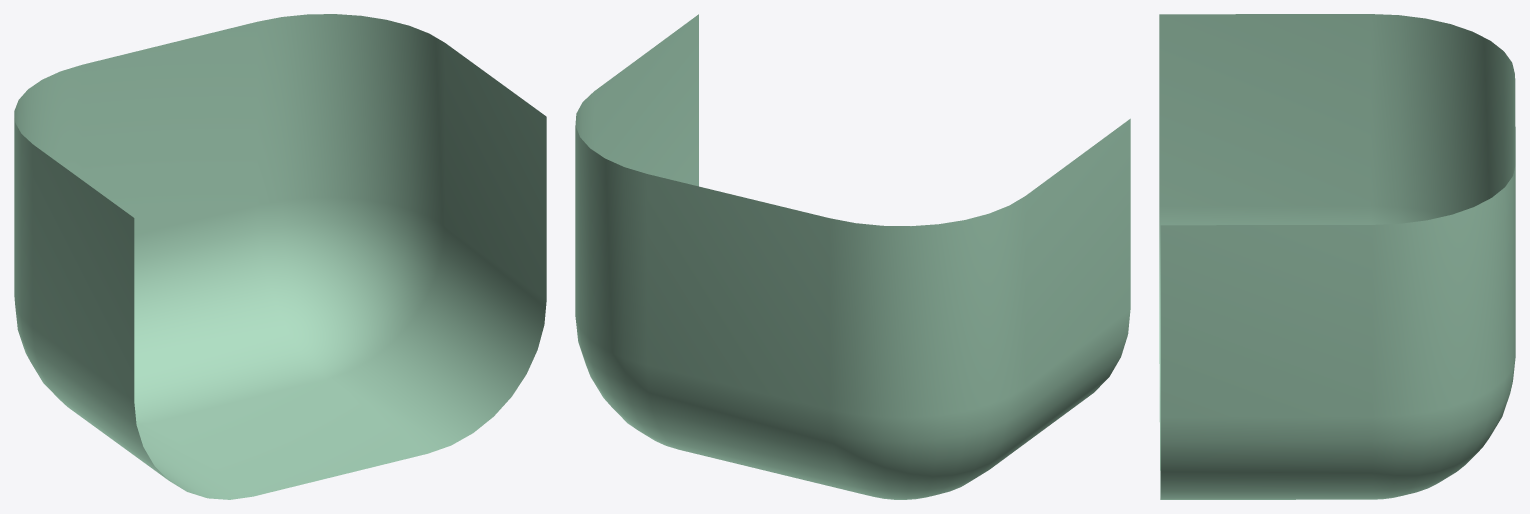
Rendered from studio.1fbbc2dc.glb.
3 views of the same model, side by side, from view 1: azimuth 30°, elevation 25°; view 2: azimuth 150°, elevation 25°; view 3: azimuth 270°, elevation 25° (orthographic). The views are drawn at different scales.
Visible parts, largest first — view 1: ChamferBox001; view 2: ChamferBox001; view 3: ChamferBox001.
Boxes of the visible parts, x1,y1,x2,y2 form: ChamferBox001: (14,14,546,499); ChamferBox001: (575,14,1130,499); ChamferBox001: (1159,14,1515,499).
Size of the model in its own units: 2 by 1.42 by 1.43.
